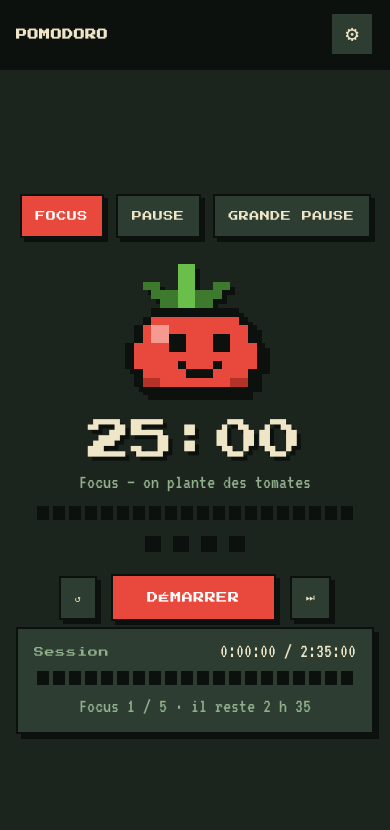
App › ouvre et ferme le tiroir de réglages
This screenshot has width=390, height=830.
Click the button named "Ouvrir les réglages" at (352, 34), box top-left (330, 12), bottom-right (374, 56)
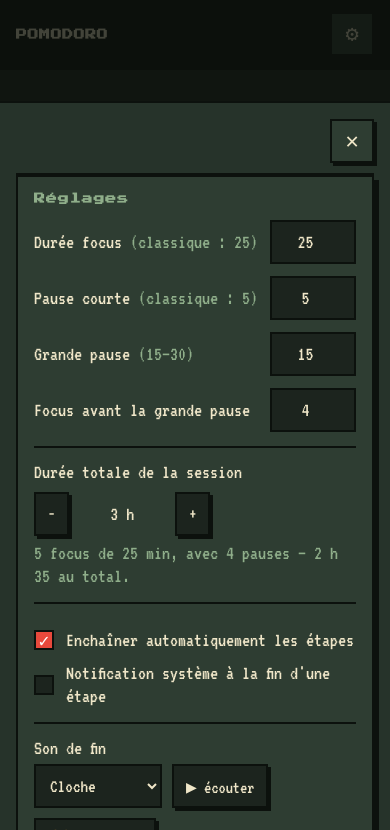
Check: the button named "Fermer les réglages" is shown, box top-left (330, 12), bottom-right (374, 56)
dans l'ordre : l'engrenage, le voile, puis la croix du tiroir
Click the button named "Fermer les réglages" at (352, 141), box top-left (330, 119), bottom-right (374, 163)
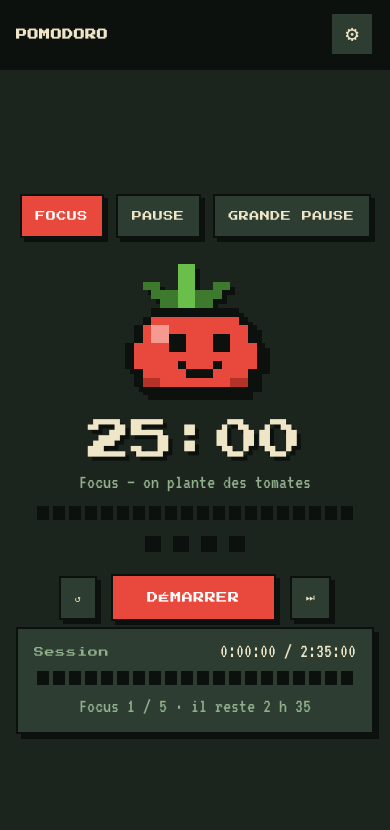
Check: the button named "Ouvrir les réglages" is shown, box top-left (330, 12), bottom-right (374, 56)
